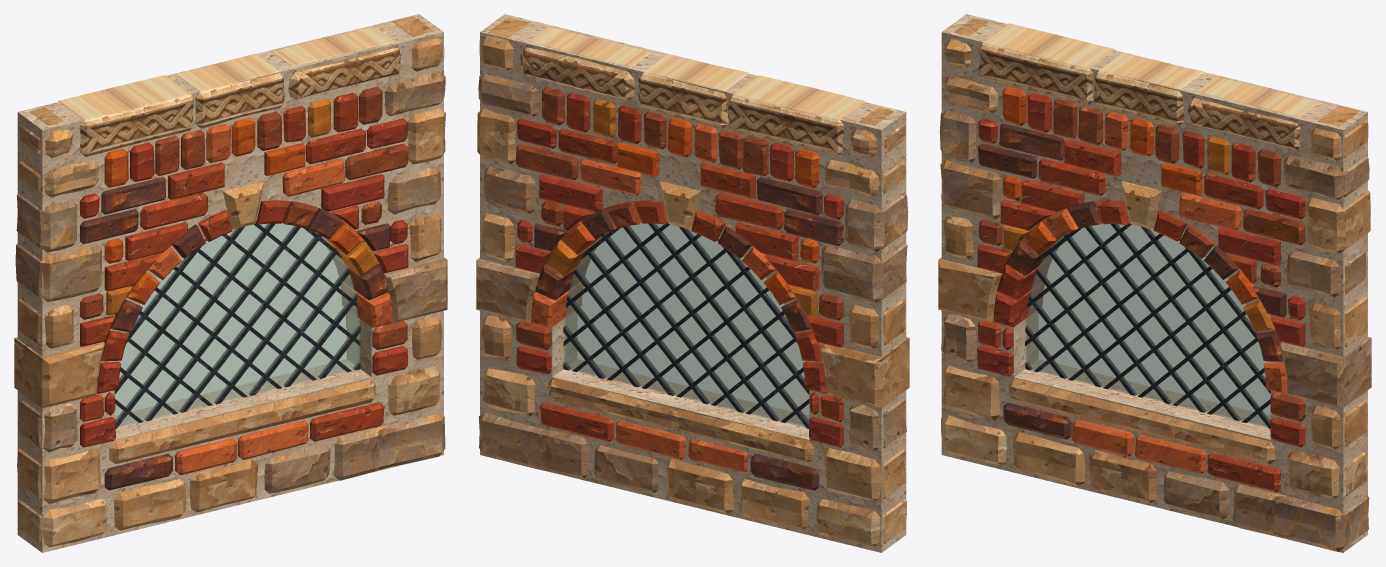
The model's file is window_wide__clay_brick.glb.
3 views of the same model, side by side, from view 1: azimuth 30°, elevation 25°; view 2: azimuth 150°, elevation 25°; view 3: azimuth 330°, elevation 25° (orthographic).
Visible parts, largest first — view 1: model; view 2: model; view 3: model.
Part boxes in pixels (x1,y1,x2,y2): model: (14,14,447,552); model: (476,14,909,552); model: (938,14,1371,552).
Size of the model in its own units: 1.98 by 1.98 by 0.2863.
Materials: 16 (15 with a texture image).
